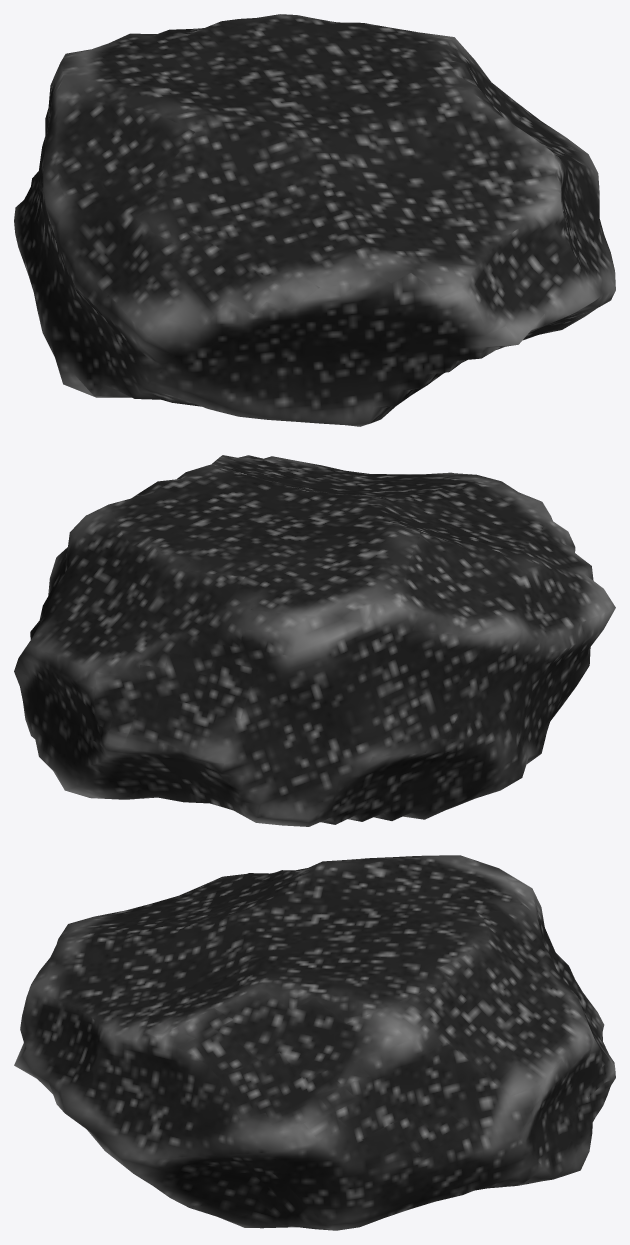
Rendered from moon_rock-1.glb.
The picture shows the model from 3 angles, top to bottom: view 1: azimuth 30°, elevation 25°; view 2: azimuth 150°, elevation 25°; view 3: azimuth 270°, elevation 25°; orthographic projection. The views are drawn at different scales.
Parts seen in each view (by area): view 1: moon_rock; view 2: moon_rock; view 3: moon_rock.
Part boxes in pixels (box(x1,y1,x2,y2)): moon_rock: box(14, 14, 615, 426); moon_rock: box(14, 455, 615, 826); moon_rock: box(14, 855, 615, 1230).
Size of the model in its own units: 0.0698 by 0.0368 by 0.0776.
Materials: 1 (1 with a texture image).
